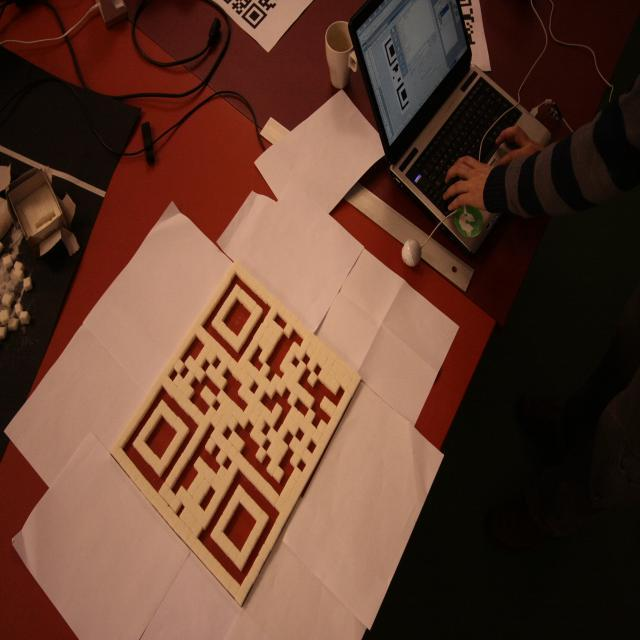qrcode: (124, 276, 352, 586)
